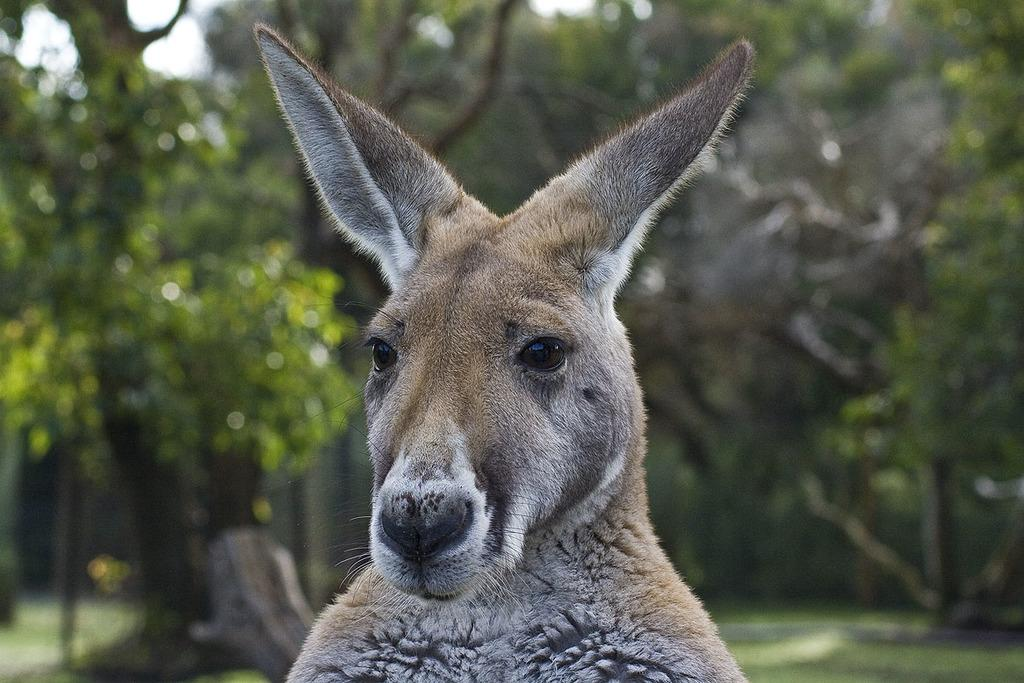kangaroo: (253, 24, 755, 682)
